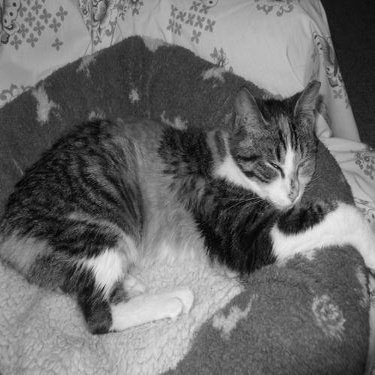cat: (2, 64, 356, 331)
